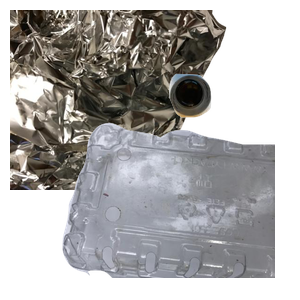glass: (166, 71, 300, 181)
metal: (10, 10, 229, 190)
plastic: (60, 120, 300, 300)
trash: (73, 164, 278, 300)
